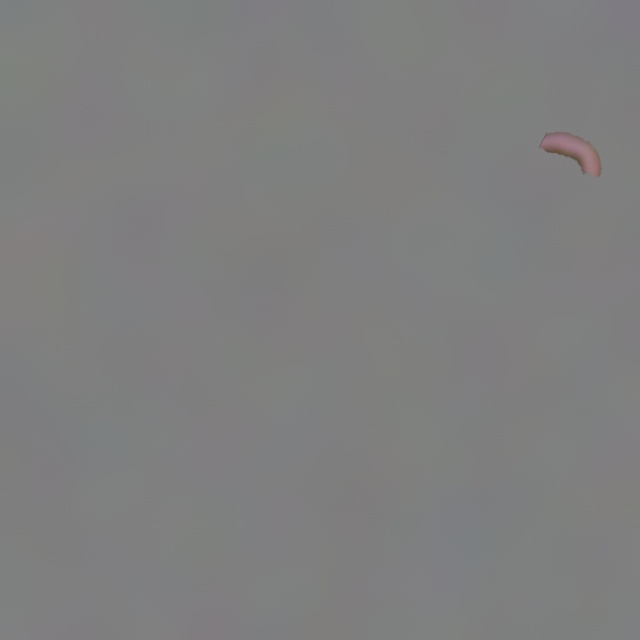cape flower: (539, 132, 601, 176)
